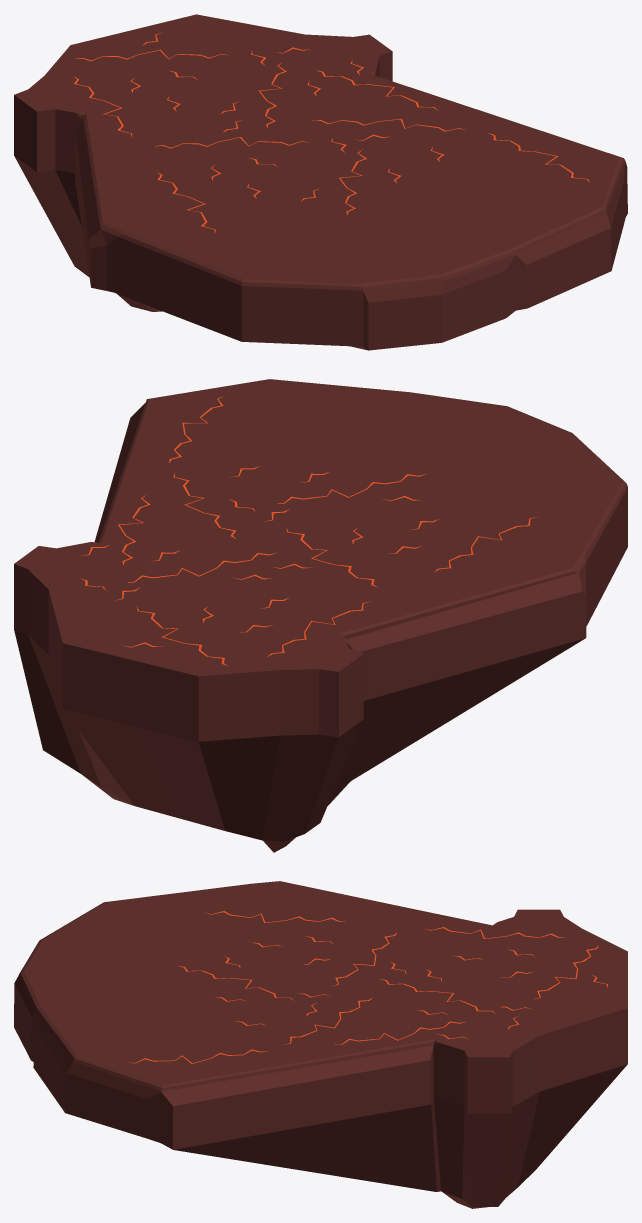
The model's file is Island 3.fbx.
3 renders of one model, top to bottom at view 1: azimuth 30°, elevation 25°; view 2: azimuth 150°, elevation 25°; view 3: azimuth 270°, elevation 25°, orthographic. The views are drawn at different scales.
Visible parts, largest first — view 1: Island 3; view 2: Island 3; view 3: Island 3.
Part boxes in pixels (x1,y1,x2,y2): Island 3: (14, 14, 627, 350); Island 3: (14, 379, 627, 852); Island 3: (14, 881, 627, 1208).
Size of the model in its own units: 2084 by 862 by 2502.
